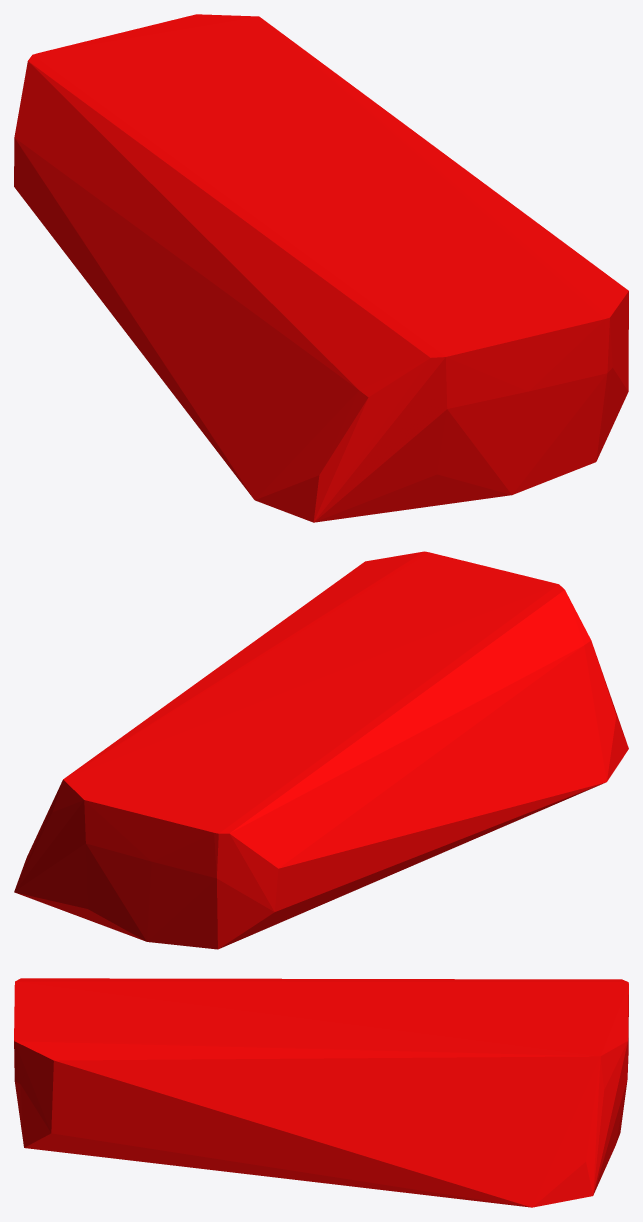
Rendered from wrist_pitch_0091_convex_hull_09.obj.
3 renders of one model, top to bottom at view 1: azimuth 30°, elevation 25°; view 2: azimuth 150°, elevation 25°; view 3: azimuth 270°, elevation 25°, orthographic. The views are drawn at different scales.
Visible parts, largest first — view 1: wrist_pitch_0091_convex_hull_09; view 2: wrist_pitch_0091_convex_hull_09; view 3: wrist_pitch_0091_convex_hull_09.
Boxes of the visible parts, x1,y1,x2,y2 form: wrist_pitch_0091_convex_hull_09: [14, 14, 628, 522]; wrist_pitch_0091_convex_hull_09: [14, 551, 628, 949]; wrist_pitch_0091_convex_hull_09: [14, 978, 628, 1207].
Bounding box in the file's own units: 0.0323 × 0.0121 × 0.0557.
